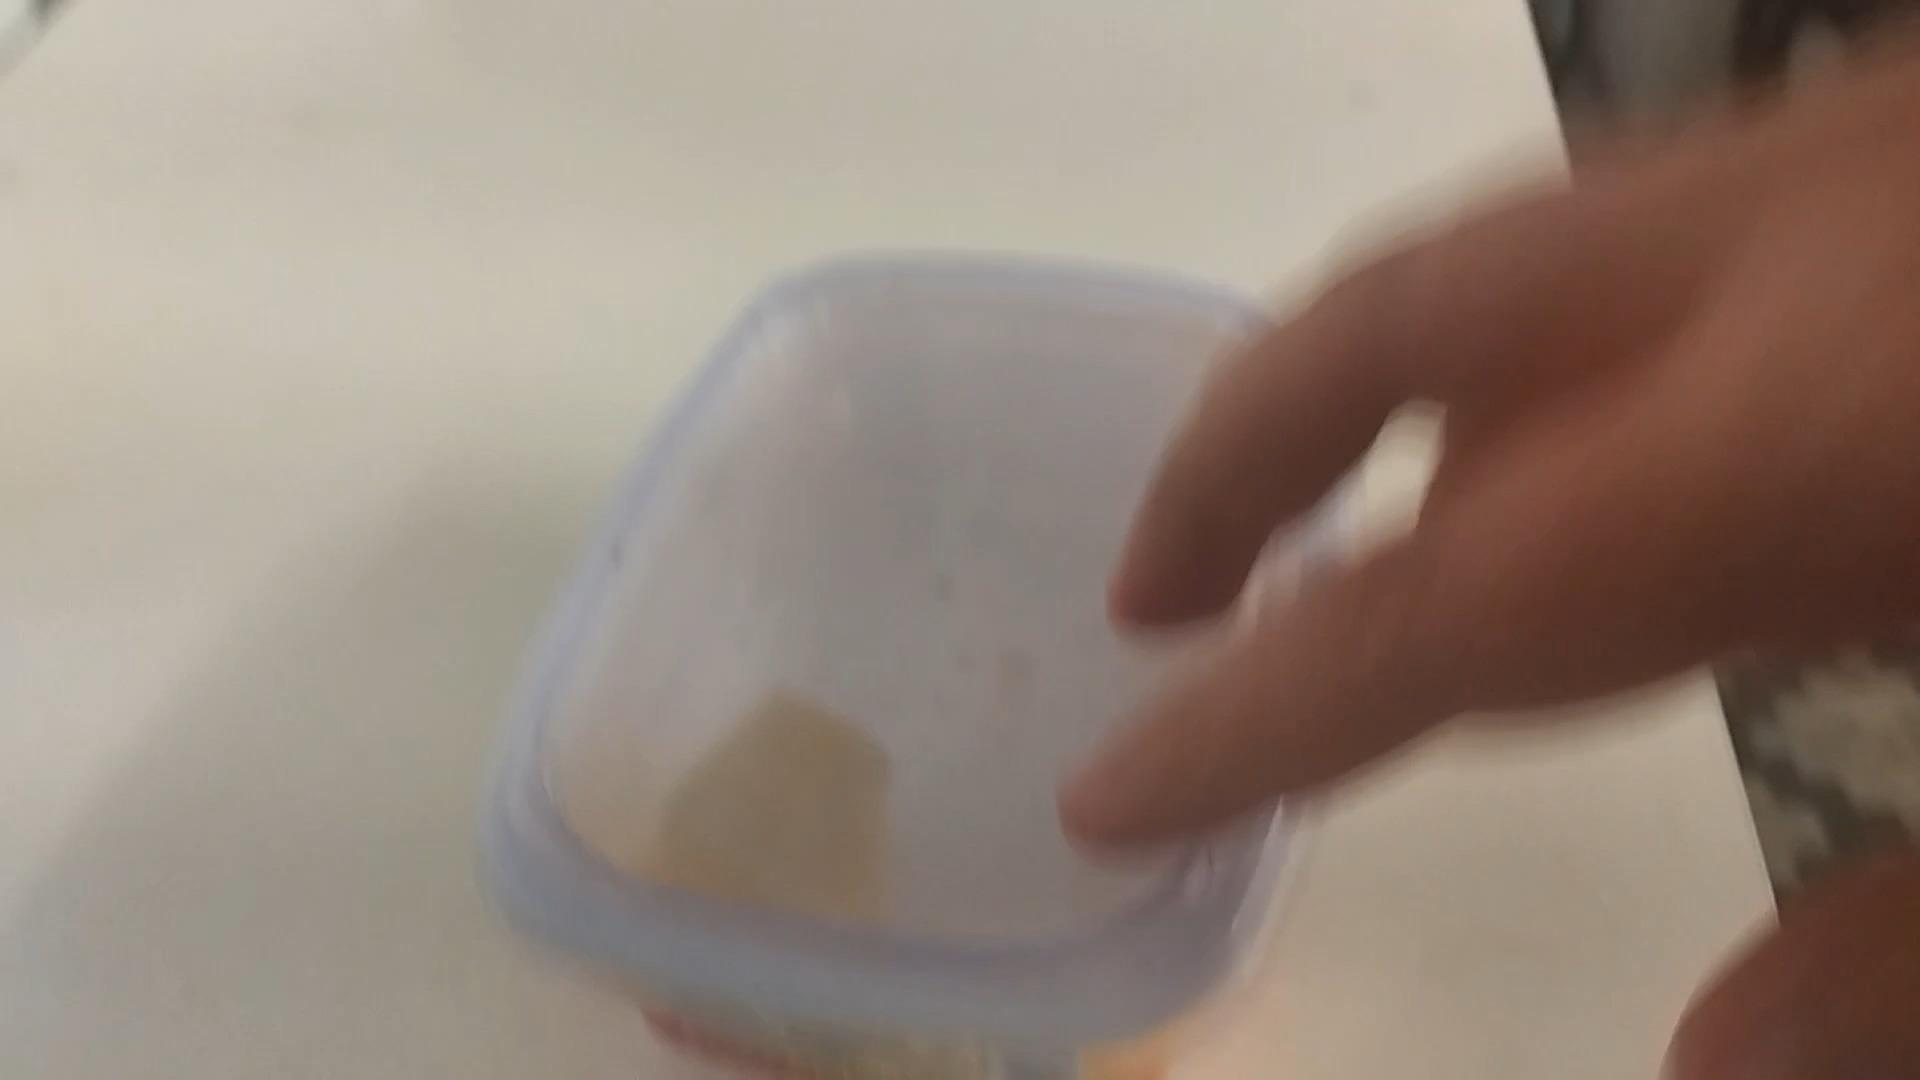butter: (469, 253, 1320, 1076)
